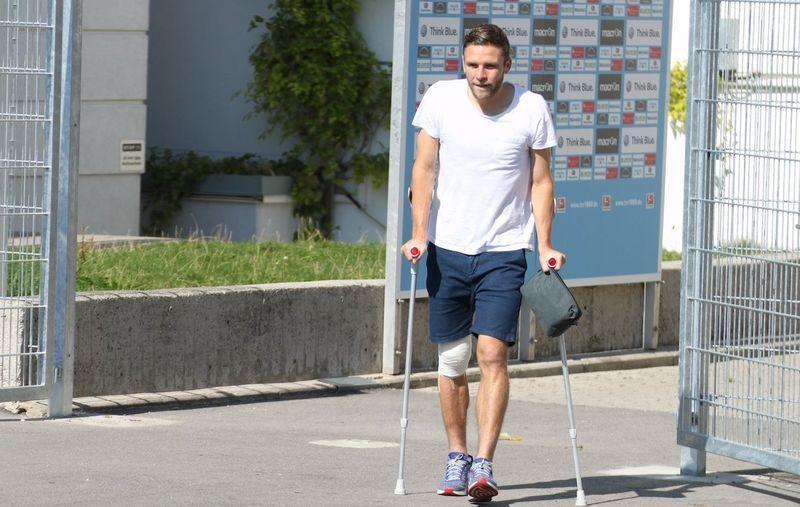crutches: (394, 26, 588, 505)
